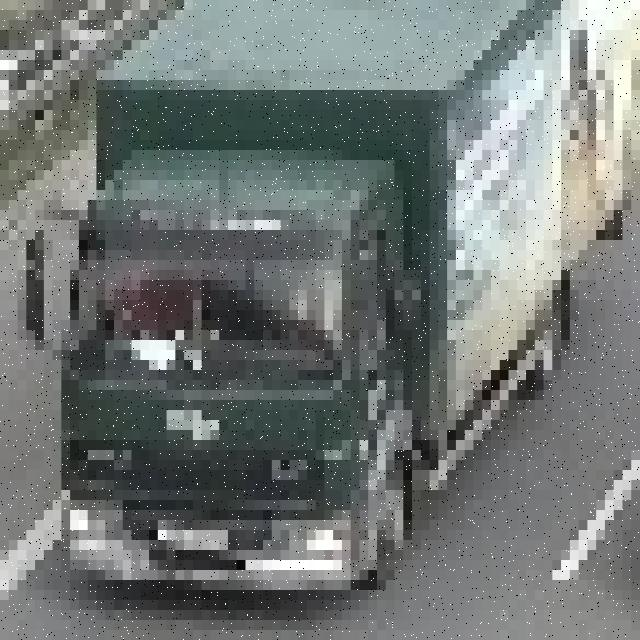truck: (26, 0, 640, 590)
